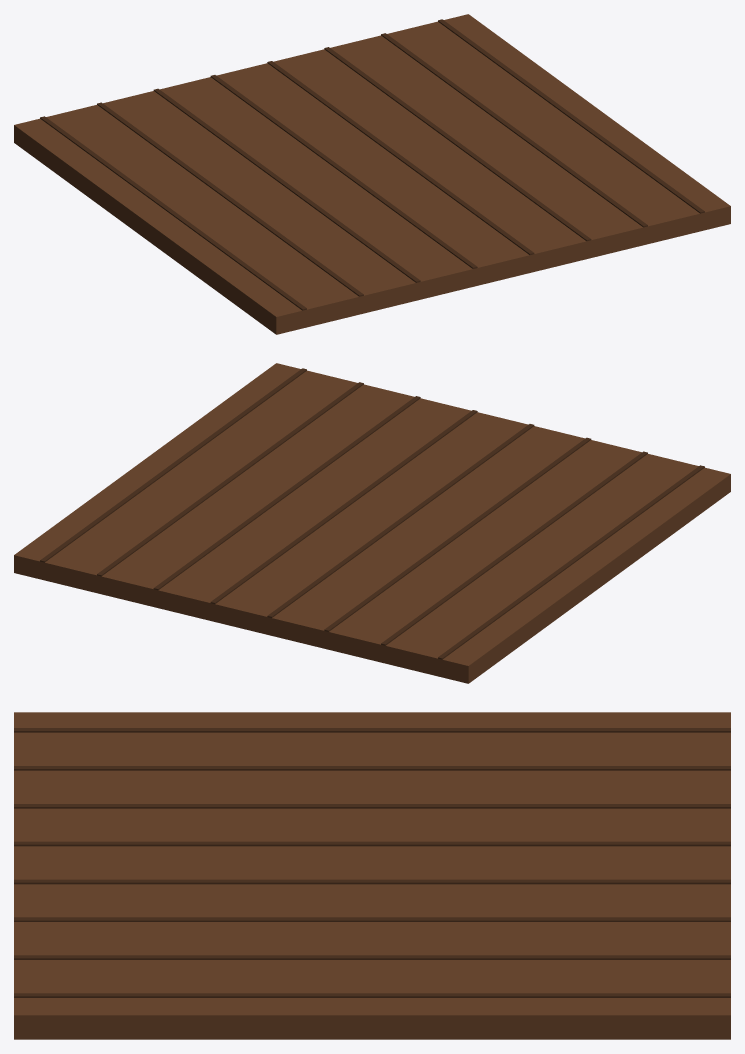
Rendered from CB_ENV_VN_Floor_Wood_A.glb.
3 renders of one model, top to bottom at view 1: azimuth 30°, elevation 25°; view 2: azimuth 150°, elevation 25°; view 3: azimuth 270°, elevation 25°, orthographic. The views are drawn at different scales.
Visible parts, largest first — view 1: CB_ENV_VN_Floor_Wood_A; view 2: CB_ENV_VN_Floor_Wood_A; view 3: CB_ENV_VN_Floor_Wood_A.
Boxes of the visible parts, x1=… form: CB_ENV_VN_Floor_Wood_A: x1=14, y1=14, x2=730, y2=334; CB_ENV_VN_Floor_Wood_A: x1=14, y1=363, x2=730, y2=683; CB_ENV_VN_Floor_Wood_A: x1=14, y1=712, x2=730, y2=1039.
Bounding box in the file's own units: 4 × 0.16 × 4.
